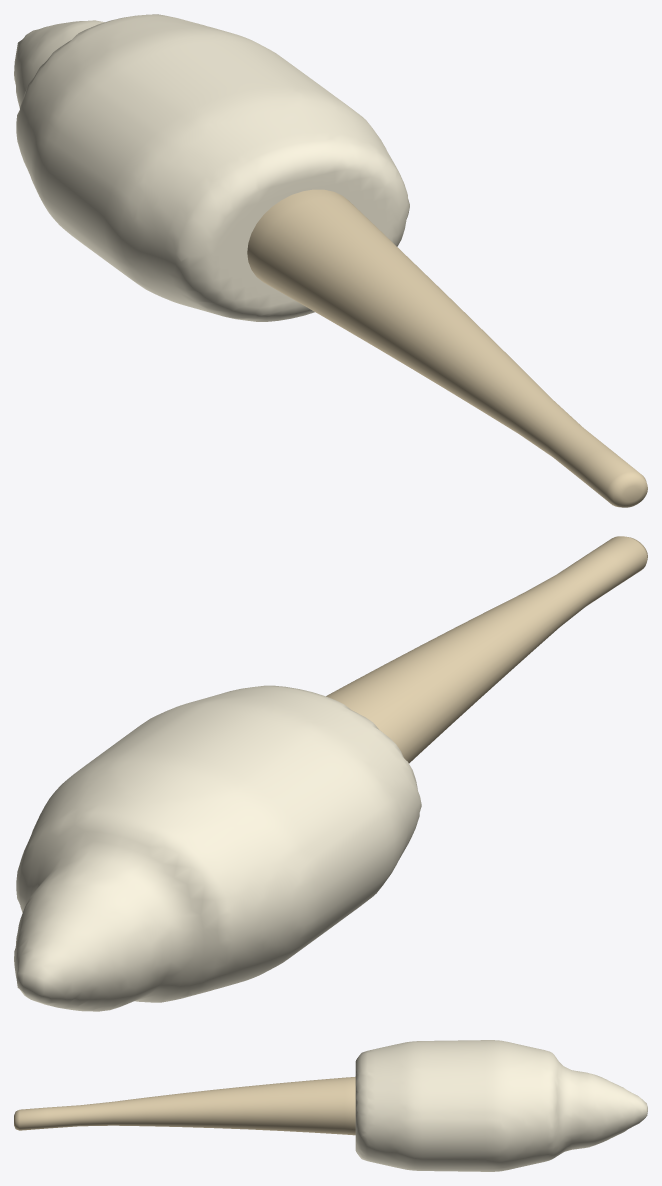
The model's file is canine.glb.
3 views of the same model, one above another, from view 1: azimuth 30°, elevation 25°; view 2: azimuth 150°, elevation 25°; view 3: azimuth 270°, elevation 25° (orthographic). The views are drawn at different scales.
Parts seen in each view (by area): view 1: Crown_Anatomical.002, Root_1.002; view 2: Crown_Anatomical.002, Root_1.002; view 3: Crown_Anatomical.002, Root_1.002.
Part boxes in pixels (bbox=[...]): Crown_Anatomical.002: bbox=[14, 14, 409, 321]; Root_1.002: bbox=[247, 189, 647, 507]; Crown_Anatomical.002: bbox=[14, 685, 421, 1011]; Root_1.002: bbox=[326, 536, 647, 763]; Crown_Anatomical.002: bbox=[355, 1040, 647, 1171]; Root_1.002: bbox=[14, 1076, 355, 1135].
Bounding box in the file's own units: 0.7458 × 0.5469 × 2.82.
